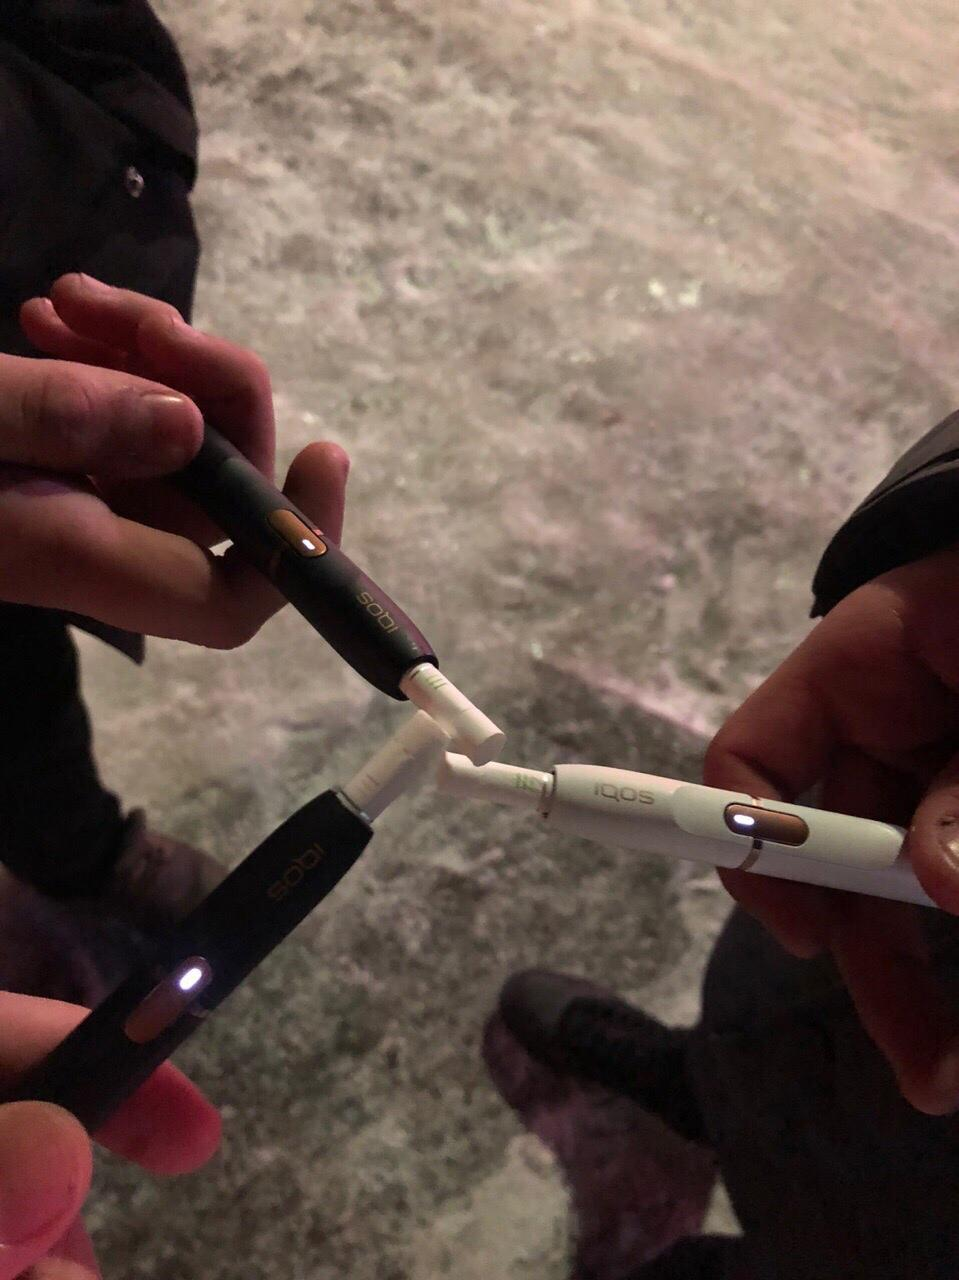iqos: (5, 712, 449, 1133), (173, 423, 503, 764), (442, 750, 934, 907)
